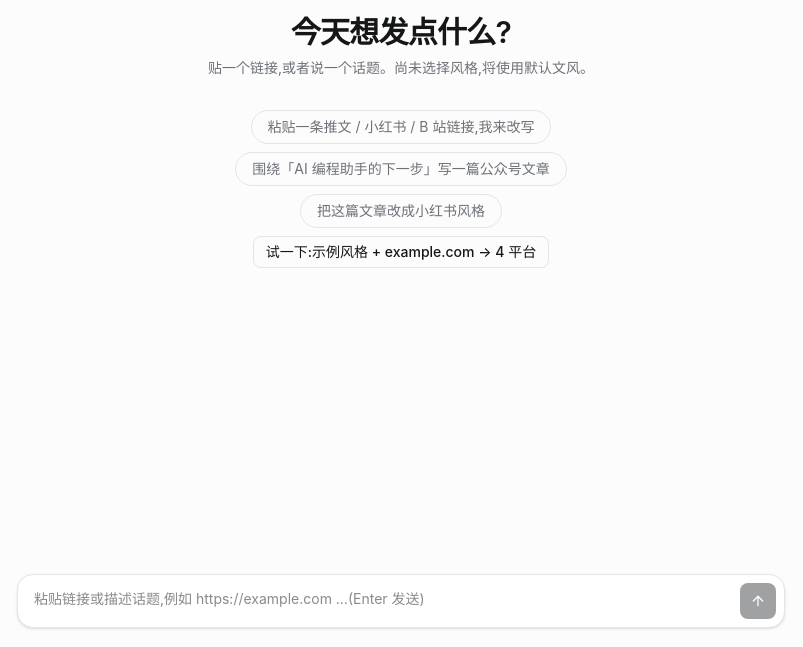
Test: Chat › chip shows the label but fills the query into the textarea
The image size is (803, 647).
Click the button "粘贴一条推文 / 小红书 / B 站链接,我来改写" at point(401, 127), box [250,110,552,144]
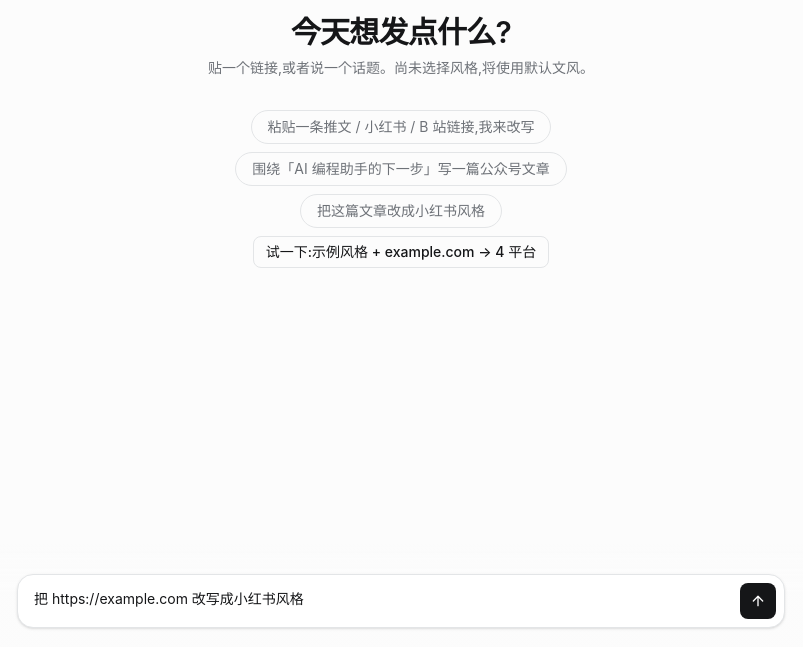
Check: the text box holds "把 https://example.com 改写成小红书风格", box [26,583,732,619]
